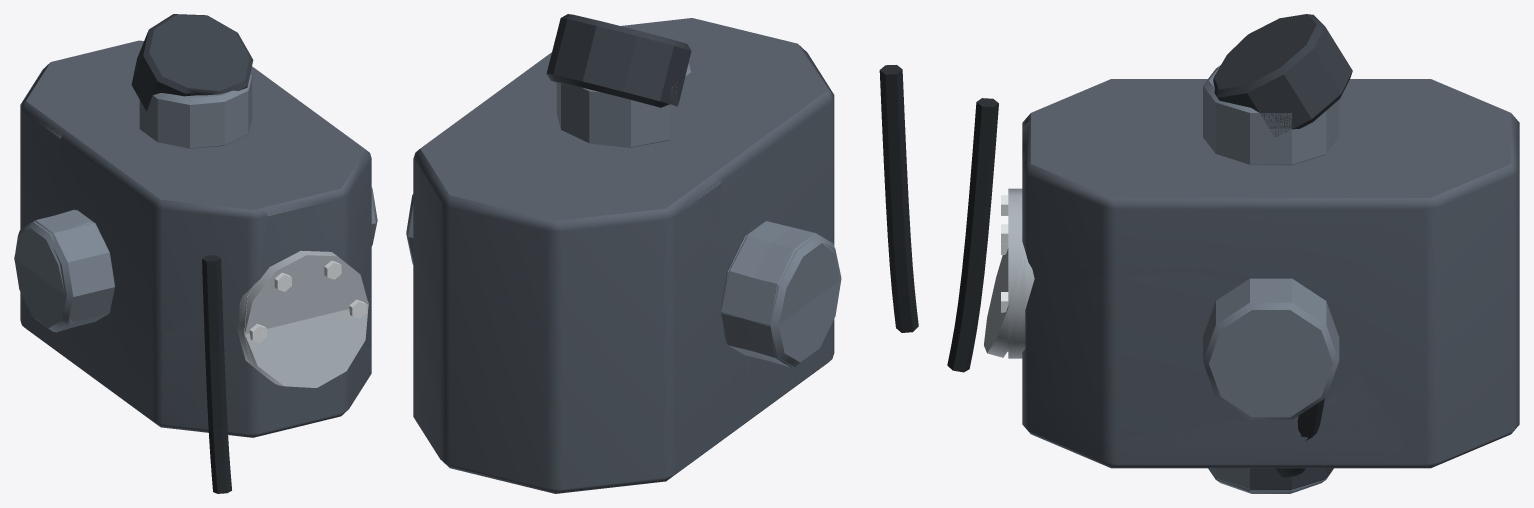
The model's file is shr_cmp_generic_joint_steel_b.glb.
3 views of the same model, side by side, from view 1: azimuth 30°, elevation 25°; view 2: azimuth 150°, elevation 25°; view 3: azimuth 270°, elevation 25° (orthographic). The views are drawn at different scales.
Parts seen in each view (by area): view 1: mesh_intact, mesh_heavy, mesh_light; view 2: mesh_heavy, mesh_intact, mesh_light; view 3: mesh_heavy, mesh_intact, mesh_light.
Part boxes in pixels (x1,y1,x2,y2): mesh_intact: (22,57,377,433); mesh_heavy: (14,14,371,493); mesh_light: (14,95,210,332); mesh_heavy: (413,14,918,493); mesh_intact: (406,18,841,471); mesh_light: (720,221,839,367); mesh_heavy: (947,14,1519,489); mesh_intact: (1001,65,1510,489); mesh_light: (1209,68,1332,493).
Size of the model in its own units: 0.3022 by 0.3461 by 0.4029.
